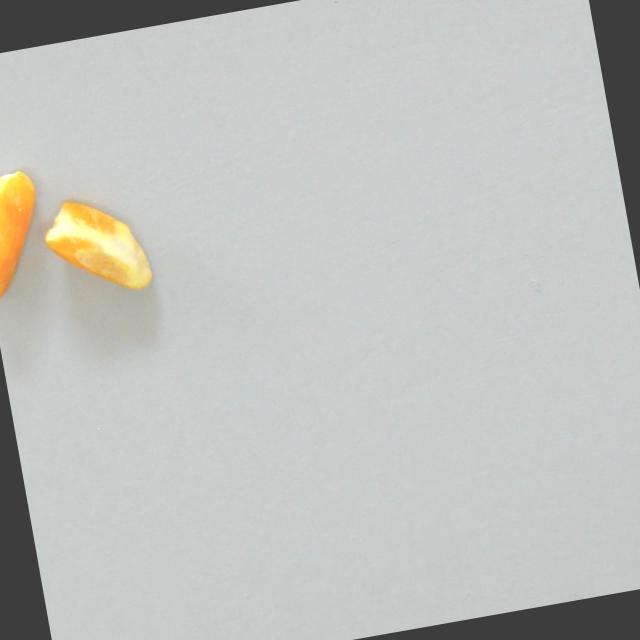dañado: (33, 182, 160, 312), (0, 163, 60, 303)
